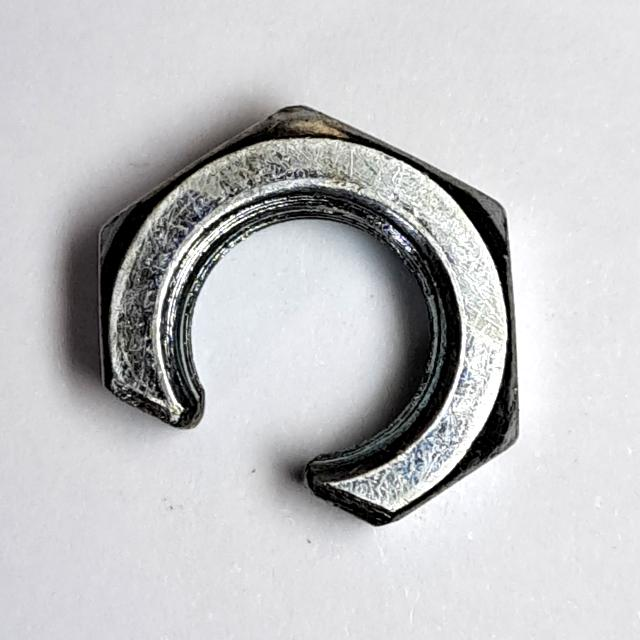Fracture: (81, 68, 538, 545)
